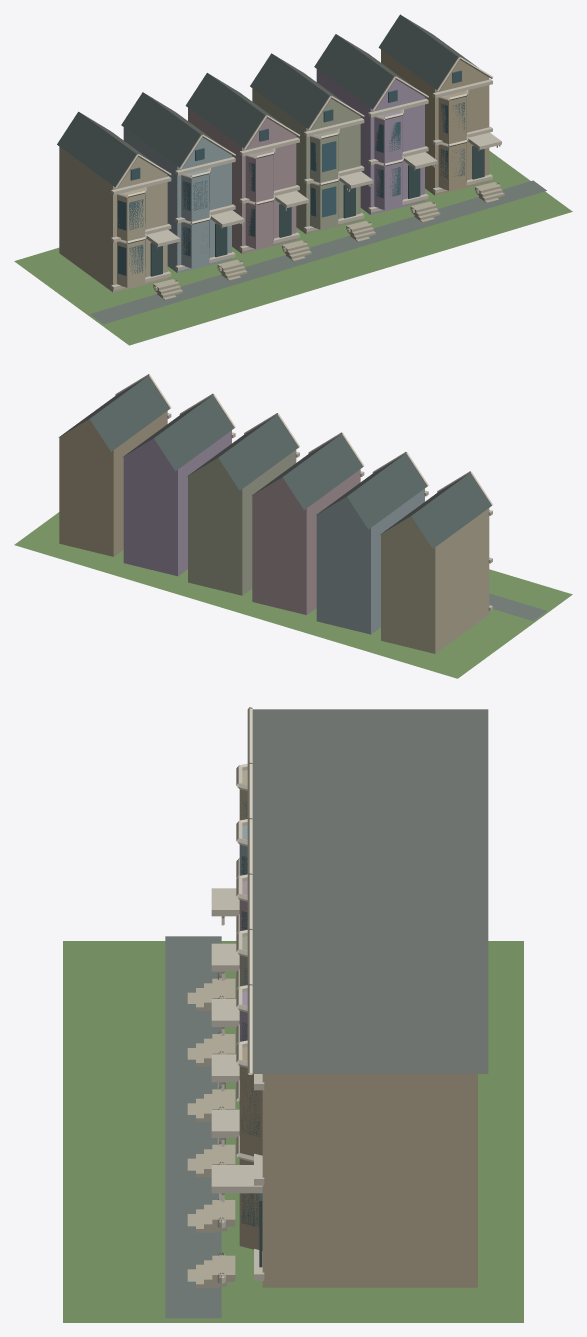
File: painted-row-lod.glb
The picture shows the model from 3 angles, top to bottom: view 1: azimuth 30°, elevation 25°; view 2: azimuth 150°, elevation 25°; view 3: azimuth 270°, elevation 25°; orthographic projection. The views are drawn at different scales.
Visible parts, largest first — view 1: painted-ladies-six-victorians; view 2: painted-ladies-six-victorians; view 3: painted-ladies-six-victorians.
Part boxes in pixels (left/top/right/bottom): painted-ladies-six-victorians: left=14, top=14, right=572, bottom=345; painted-ladies-six-victorians: left=14, top=374, right=572, bottom=678; painted-ladies-six-victorians: left=63, top=707, right=523, bottom=1322.
Bounding box in the file's own units: 20 × 6.99 × 9.
